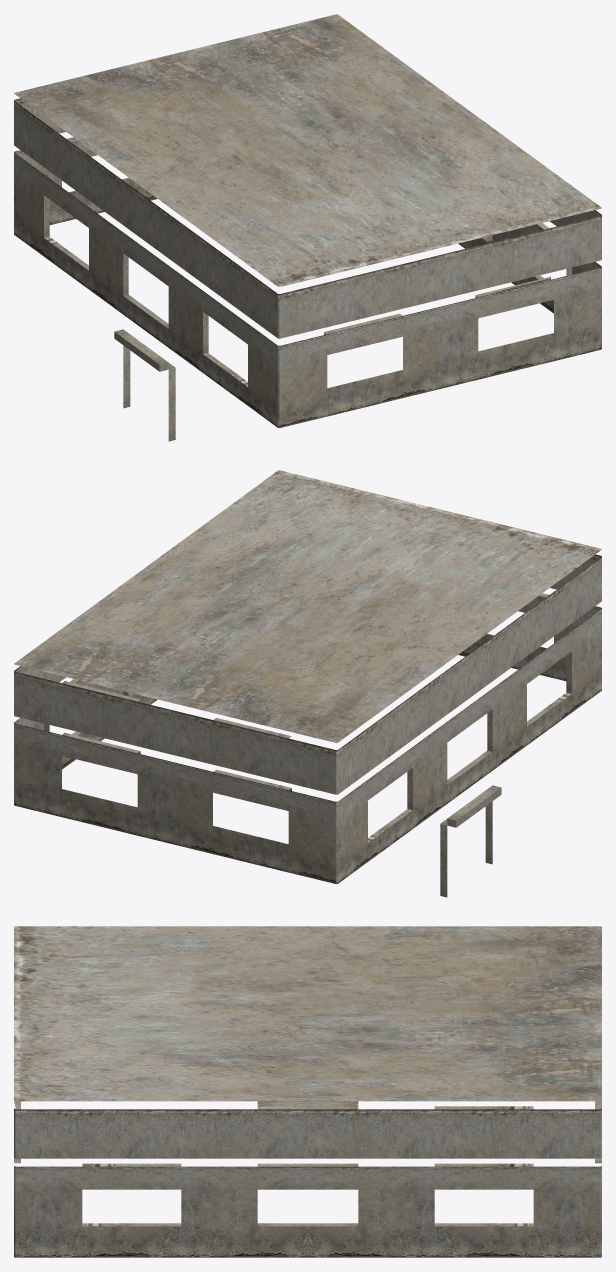
Rendered from warehousebrickb_id_3_wallstuccoa_dm_0_lev1.glb.
3 renders of one model, top to bottom at view 1: azimuth 30°, elevation 25°; view 2: azimuth 150°, elevation 25°; view 3: azimuth 270°, elevation 25°, orthographic. The views are drawn at different scales.
Visible parts, largest first — view 1: warehousebrickb_id_3_wallstuccoa_dm_0_lev1; view 2: warehousebrickb_id_3_wallstuccoa_dm_0_lev1; view 3: warehousebrickb_id_3_wallstuccoa_dm_0_lev1.
Part boxes in pixels (box(x1,y1,x2,y2)): warehousebrickb_id_3_wallstuccoa_dm_0_lev1: box(14, 14, 601, 441); warehousebrickb_id_3_wallstuccoa_dm_0_lev1: box(14, 470, 601, 897); warehousebrickb_id_3_wallstuccoa_dm_0_lev1: box(14, 926, 601, 1257).
Size of the model in its own units: 6.6 by 4.45 by 9.11.
Materials: 1 (1 with a texture image).
